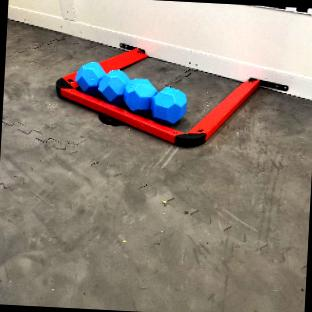V5_BLUE: (75, 62, 187, 124)
